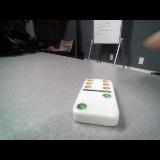domino: (73, 79, 119, 126)
